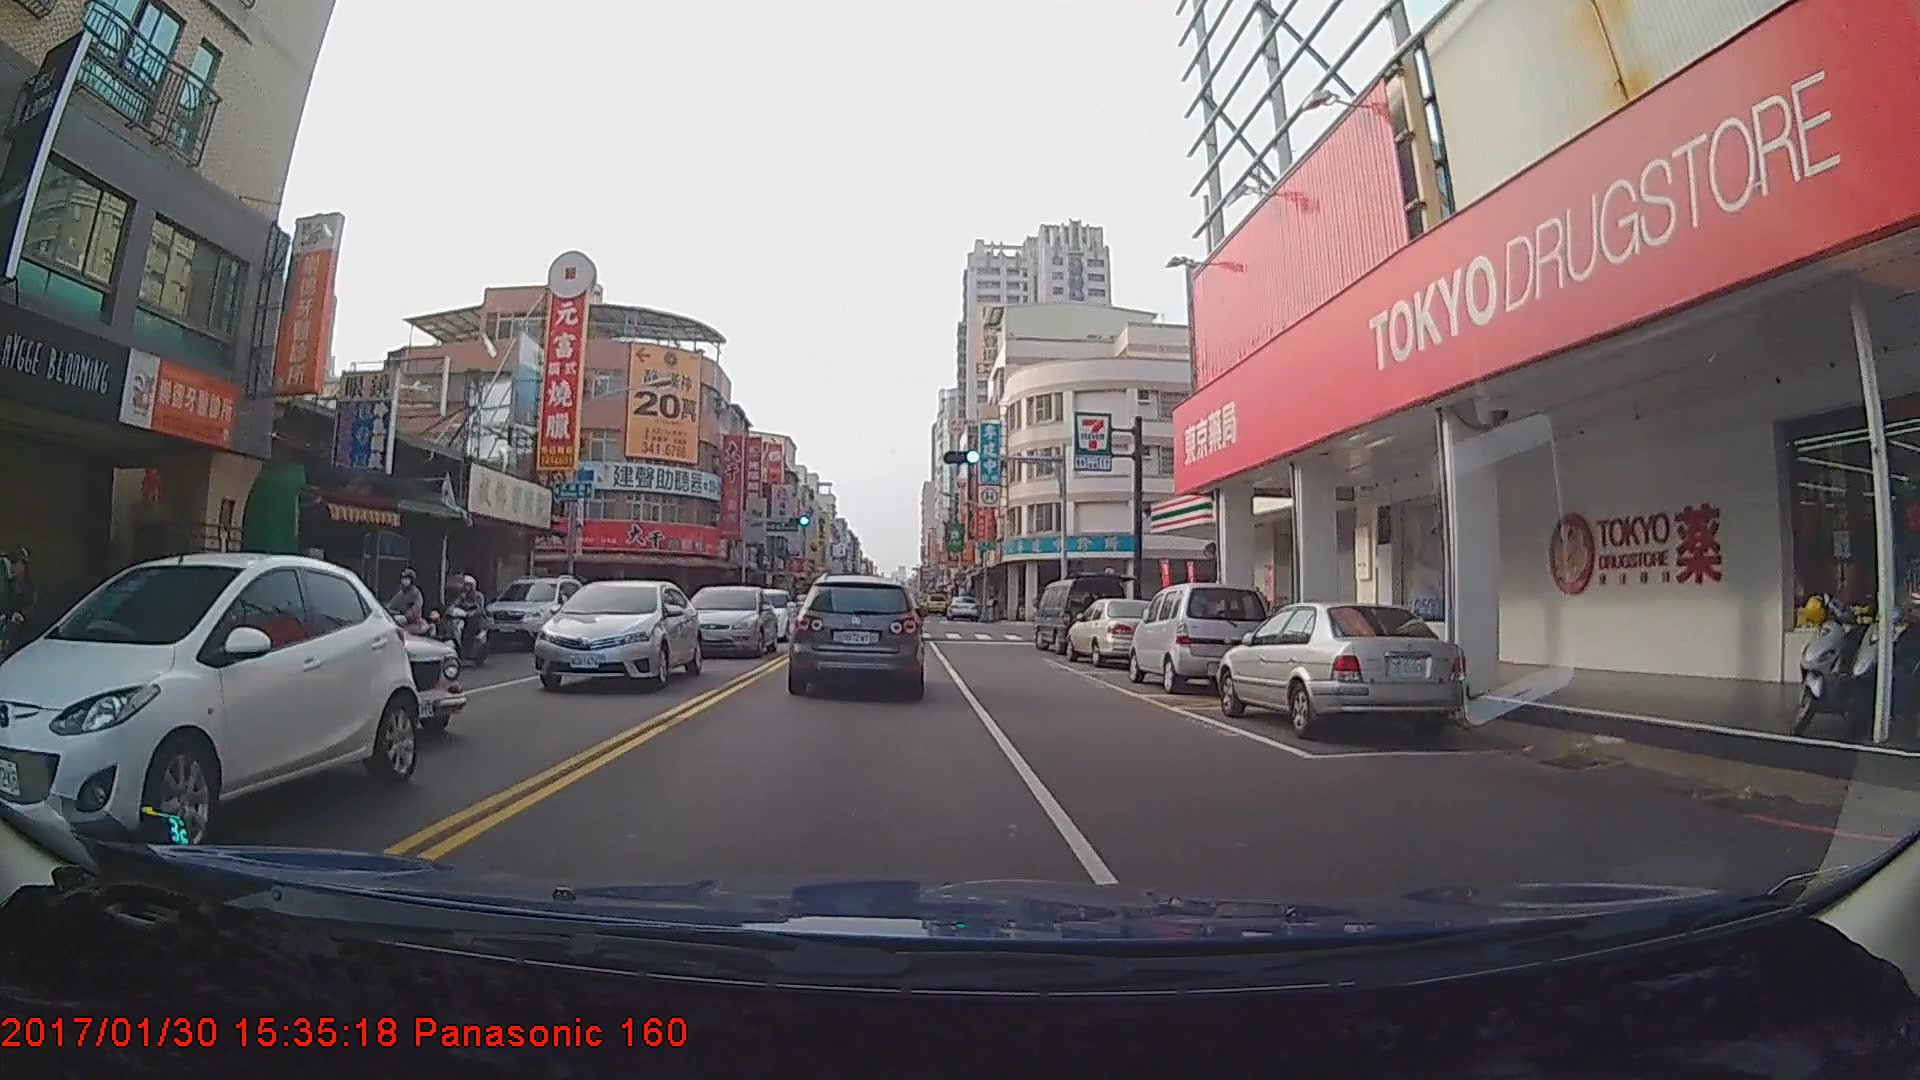rider: (1, 549, 50, 722), (437, 571, 487, 661)
vehicle: (4, 548, 416, 852), (1218, 598, 1466, 742), (524, 581, 691, 697), (1128, 585, 1272, 695), (793, 575, 922, 696), (480, 572, 585, 649), (1033, 576, 1125, 655), (679, 582, 776, 657), (1067, 600, 1167, 667), (731, 587, 792, 643), (943, 593, 979, 618)
